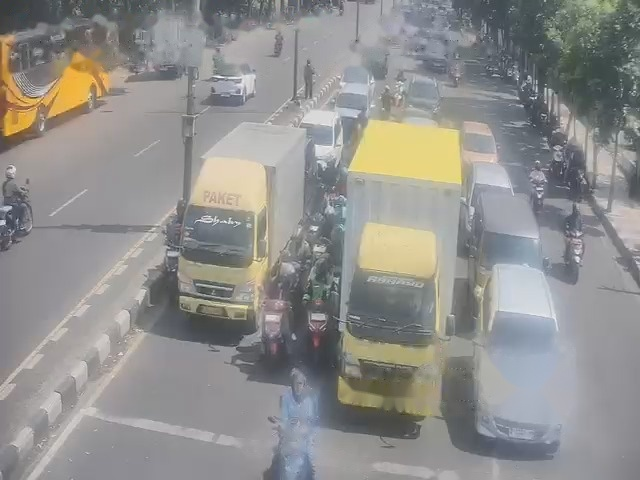Bis: (0, 30, 96, 151)
Mobil: (476, 271, 568, 450), (474, 194, 542, 277), (458, 161, 513, 248), (299, 110, 342, 163), (461, 122, 496, 163)
Motor: (268, 416, 312, 479), (0, 178, 32, 249), (260, 295, 292, 363), (163, 235, 180, 301), (564, 230, 583, 284), (565, 235, 585, 274), (307, 212, 325, 247), (0, 205, 14, 250), (307, 312, 324, 347), (570, 168, 588, 201), (550, 145, 566, 181), (312, 237, 330, 262), (531, 181, 544, 215), (523, 91, 537, 114), (518, 83, 532, 104), (393, 80, 404, 106), (274, 36, 283, 57), (485, 64, 499, 76), (503, 66, 513, 81), (452, 71, 460, 87), (339, 3, 343, 15)
Truk: (346, 93, 460, 432), (182, 115, 306, 330)
